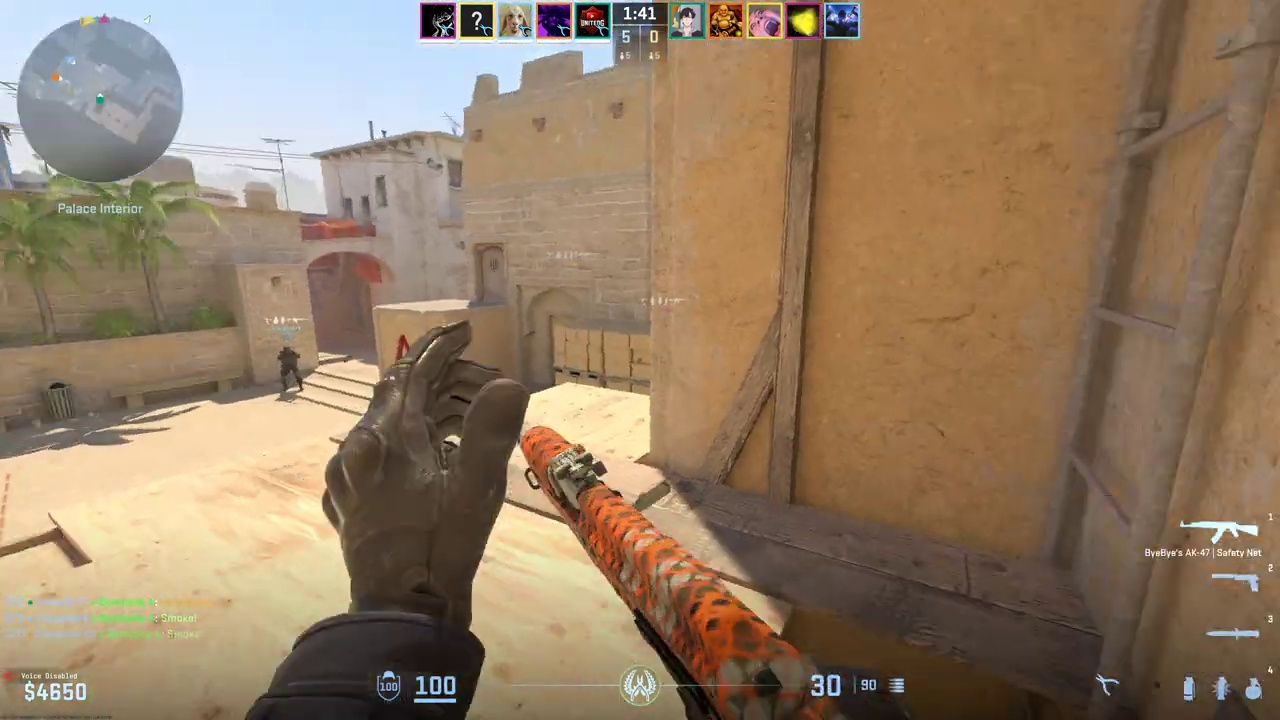CT: (278, 346, 303, 392)
